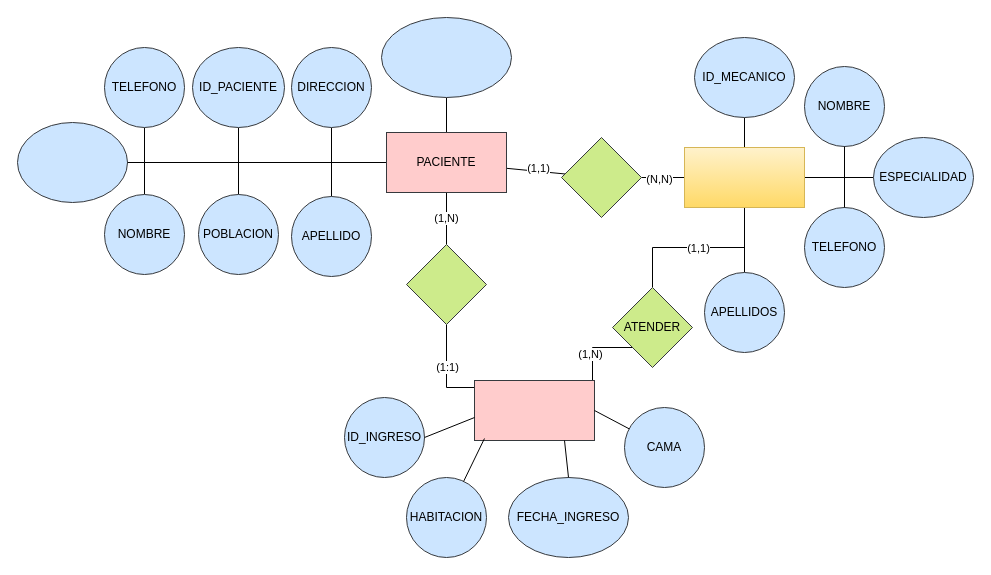
Image size: 991x575. Some labels were removed from this diagram. The box of each missing label's shape, as (x1, y1, x2, y2) in pixels:
CONTROLAR: (560, 136, 642, 218)
DEPARTAMENTO: (16, 122, 128, 202)
FECHA_NACIMIENTO: (380, 16, 512, 98)
INGRESAR: (406, 244, 486, 324)
INGRESOS: (474, 380, 594, 440)
MEDICO: (684, 146, 804, 208)
